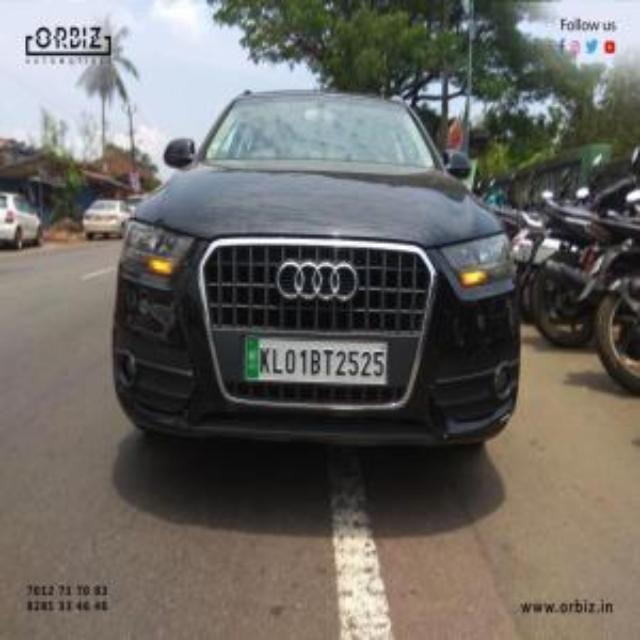License Plate: (245, 336, 388, 385)
